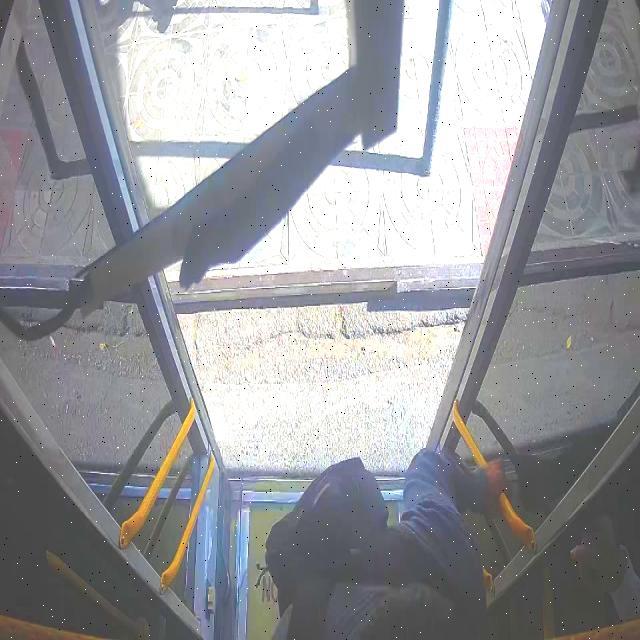open: (74, 4, 576, 490)
